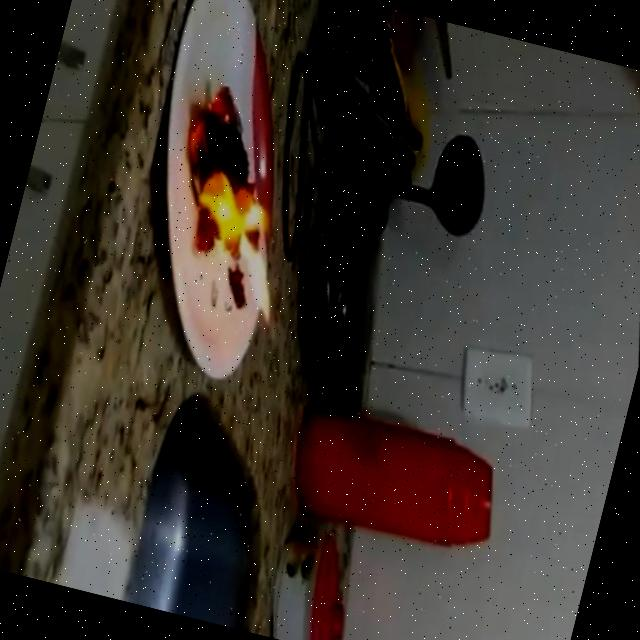fire: (139, 65, 336, 343)
